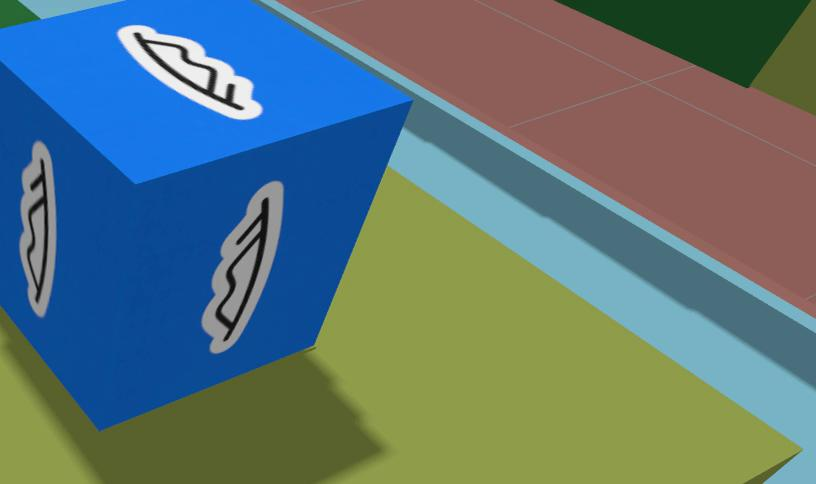KFS_REAL: (0, 0, 410, 429), (201, 181, 283, 353), (117, 24, 261, 120), (18, 141, 55, 317), (146, 183, 147, 184)
